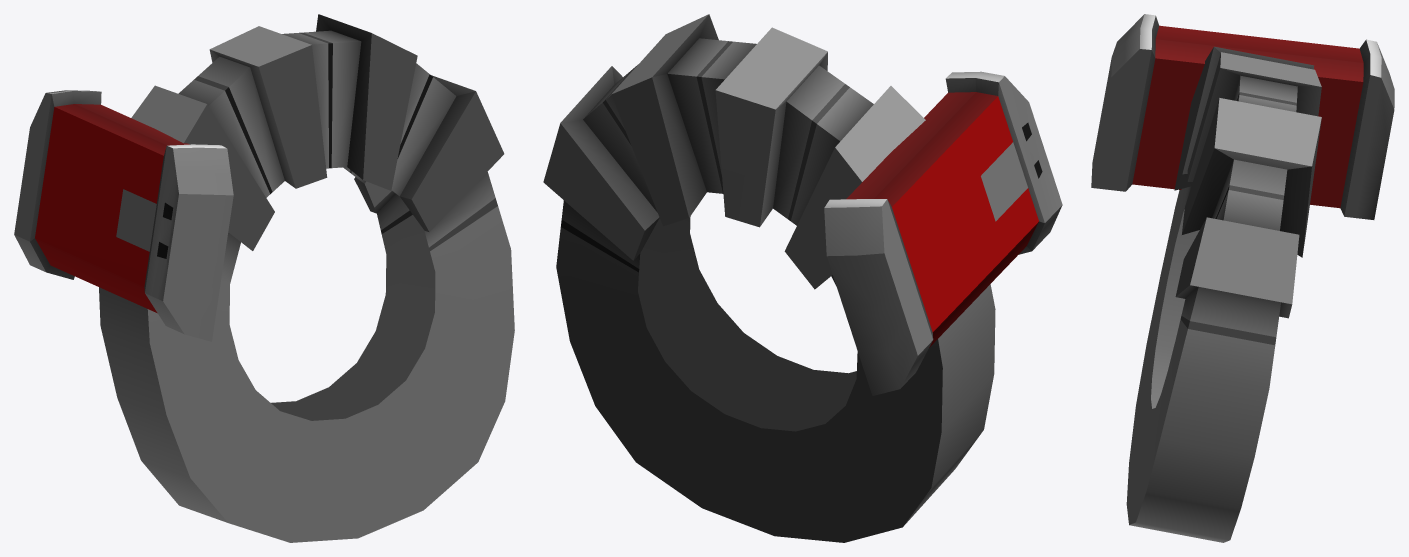
The model's file is bombaElcabezas.fbx.
3 renders of one model, left to right at view 1: azimuth 30°, elevation 25°; view 2: azimuth 150°, elevation 25°; view 3: azimuth 270°, elevation 25°, orthographic. The views are drawn at different scales.
Parts seen in each view (by area): view 1: polySurface7; view 2: polySurface7; view 3: polySurface7.
Part boxes in pixels (left/top/right/bottom): polySurface7: left=14, top=14, right=514, bottom=542; polySurface7: left=543, top=14, right=1062, bottom=542; polySurface7: left=1091, top=14, right=1394, bottom=542.
Size of the model in its own units: 48.03 by 55.42 by 33.46.
